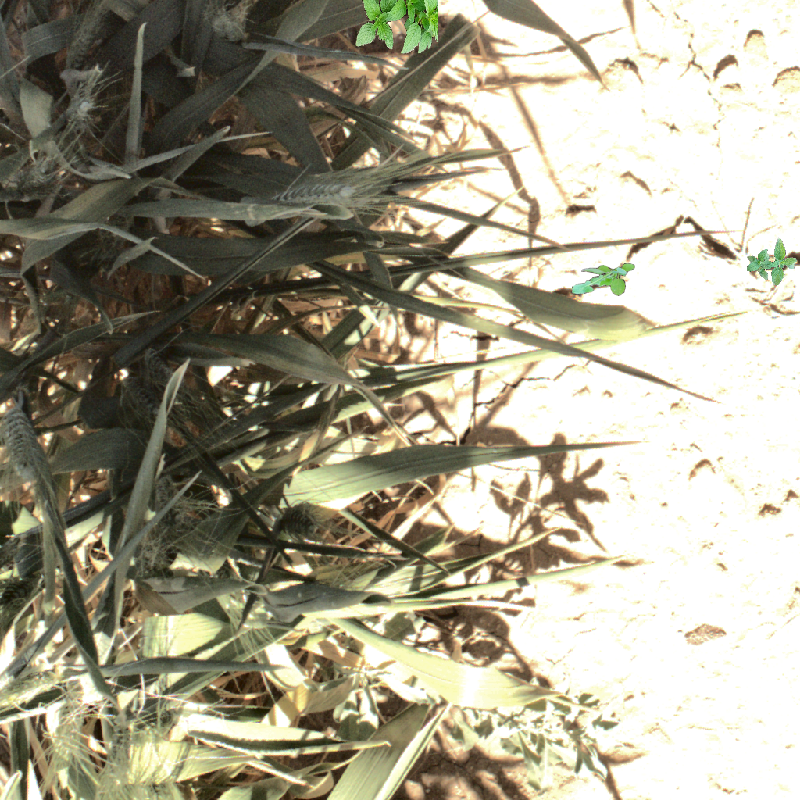spikelet: (1, 401, 46, 491), (46, 696, 86, 762), (278, 178, 356, 207), (66, 9, 101, 69), (65, 93, 96, 127)
weed: (355, 1, 438, 55), (740, 235, 800, 295), (572, 263, 635, 296)
